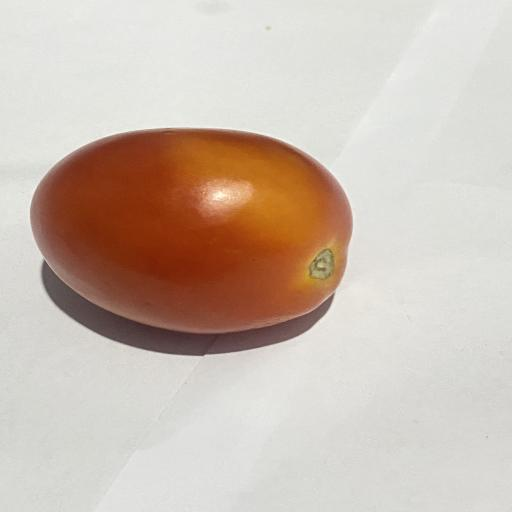ripe: (31, 128, 352, 334)
